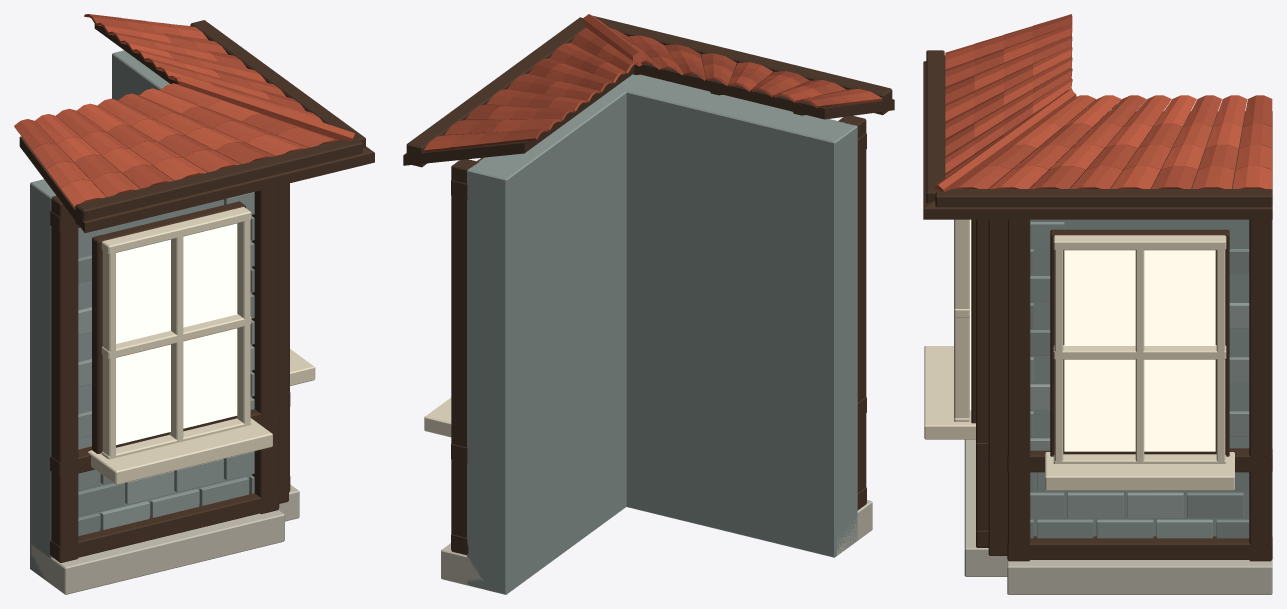
Rendered from SM_Wall_Corner_L0.glb.
The picture shows the model from 3 angles, left to right: view 1: azimuth 30°, elevation 25°; view 2: azimuth 150°, elevation 25°; view 3: azimuth 270°, elevation 25°; orthographic projection. The views are drawn at different scales.
Visible parts, largest first — view 1: SM_Wall_Corner; view 2: SM_Wall_Corner; view 3: SM_Wall_Corner.
Part boxes in pixels (box(x1,y1,x2,y2)): SM_Wall_Corner: box(14, 14, 374, 594); SM_Wall_Corner: box(403, 14, 894, 594); SM_Wall_Corner: box(923, 14, 1272, 594).
Bounding box in the file's own units: 2.63 × 3.83 × 2.63.
